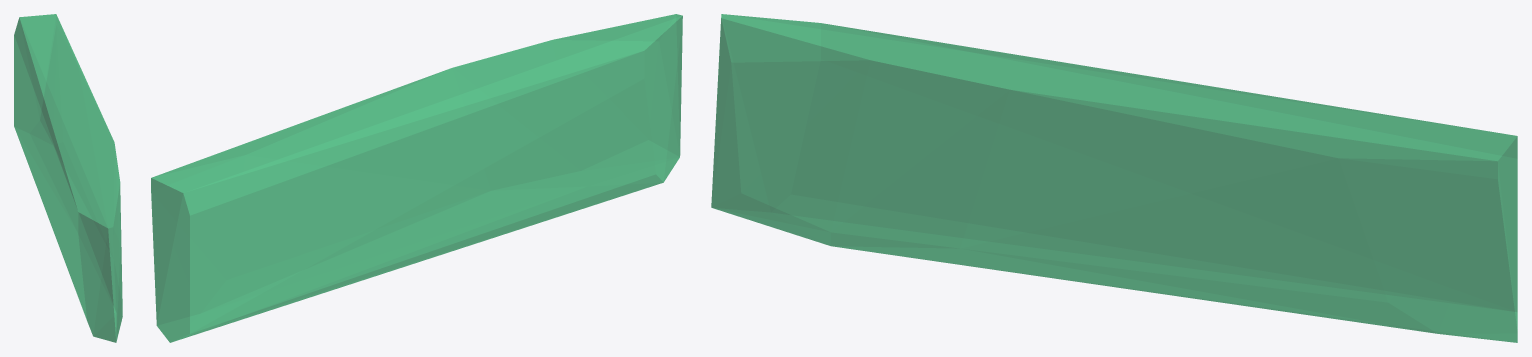
3 renders of one model, left to right at view 1: azimuth 30°, elevation 25°; view 2: azimuth 150°, elevation 25°; view 3: azimuth 270°, elevation 25°, orthographic. The views are drawn at different scales.
Visible parts, largest first — view 1: Shape_IndexedFaceSet.035_Shape_IndexedFaceSet.11179; view 2: Shape_IndexedFaceSet.035_Shape_IndexedFaceSet.11179; view 3: Shape_IndexedFaceSet.035_Shape_IndexedFaceSet.11179.
Boxes of the visible parts, x1,y1,x2,y2 form: Shape_IndexedFaceSet.035_Shape_IndexedFaceSet.11179: [14, 14, 122, 342]; Shape_IndexedFaceSet.035_Shape_IndexedFaceSet.11179: [151, 14, 682, 342]; Shape_IndexedFaceSet.035_Shape_IndexedFaceSet.11179: [711, 14, 1517, 342].
Bounding box in the file's own units: 0.1149 × 0.0722 × 0.2659.
